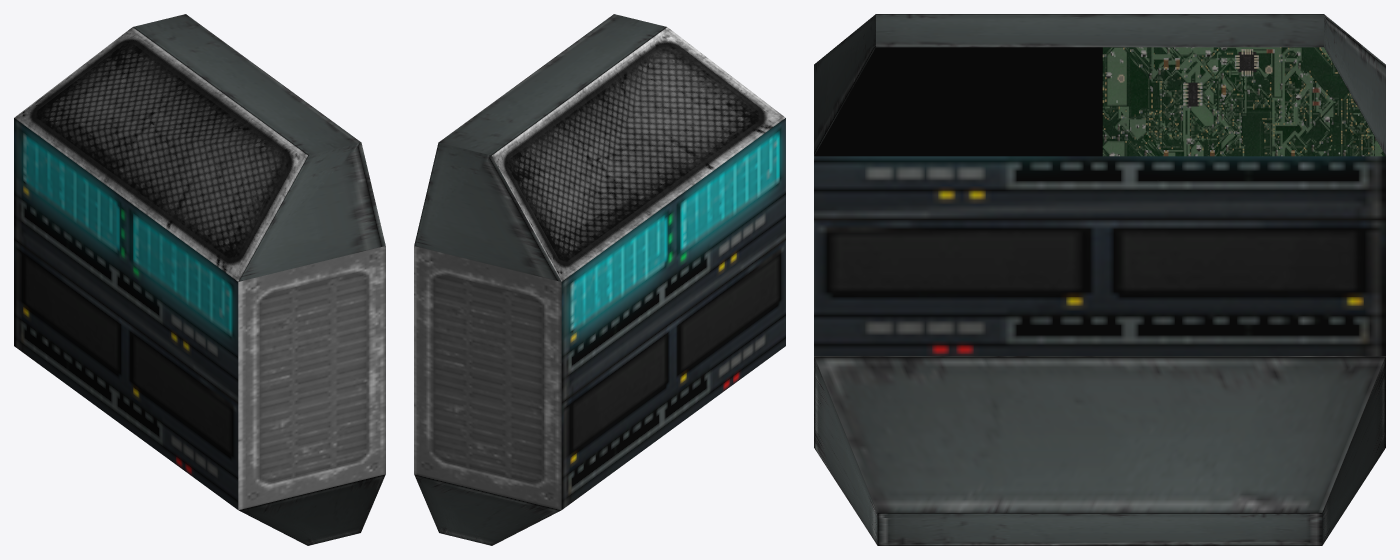
The model's file is WallPanel_02.fbx.
The picture shows the model from 3 angles, left to right: view 1: azimuth 30°, elevation 25°; view 2: azimuth 150°, elevation 25°; view 3: azimuth 270°, elevation 25°; orthographic projection. The views are drawn at different scales.
Visible parts, largest first — view 1: WallPanel_02; view 2: WallPanel_02; view 3: WallPanel_02.
Boxes of the visible parts, x1,y1,x2,y2 form: WallPanel_02: (14, 14, 385, 545); WallPanel_02: (414, 14, 785, 545); WallPanel_02: (814, 14, 1385, 545).
Size of the model in its own units: 16.09 by 40.75 by 42.35.
